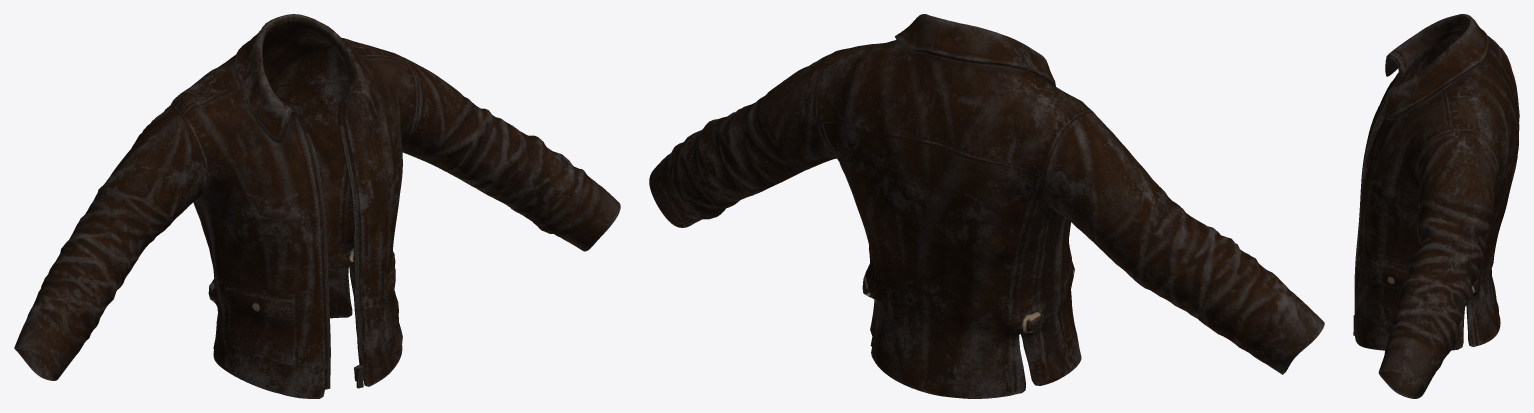
File: indiana_jones_wested_leather_coat.glb
3 views of the same model, side by side, from view 1: azimuth 30°, elevation 25°; view 2: azimuth 150°, elevation 25°; view 3: azimuth 270°, elevation 25° (orthographic). The views are drawn at different scales.
Visible parts, largest first — view 1: ij_coat_low_Cloth_0; view 2: ij_coat_low_Cloth_0; view 3: ij_coat_low_Cloth_0.
Boxes of the visible parts, bbox=[...] form: ij_coat_low_Cloth_0: bbox=[14, 14, 620, 398]; ij_coat_low_Cloth_0: bbox=[649, 14, 1324, 398]; ij_coat_low_Cloth_0: bbox=[1353, 14, 1519, 398].
Bounding box in the file's own units: 5.59 × 2.95 × 1.44.
2 materials, 2 textured.
